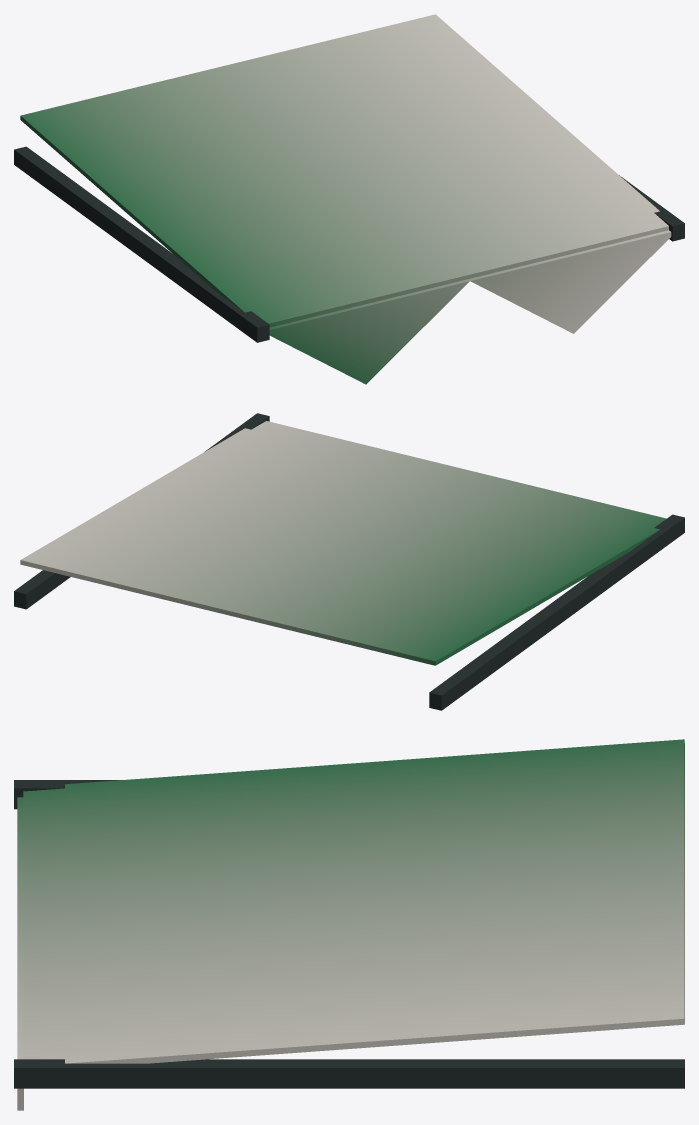
File: mai_hien_la.glb
3 views of the same model, one above another, from view 1: azimuth 30°, elevation 25°; view 2: azimuth 150°, elevation 25°; view 3: azimuth 270°, elevation 25° (orthographic). The views are drawn at different scales.
Parts seen in each view (by area): view 1: mai_hien_la; view 2: mai_hien_la; view 3: mai_hien_la.
Part boxes in pixels (x1,y1,x2,y2): mai_hien_la: (14,14,684,384); mai_hien_la: (14,413,684,710); mai_hien_la: (14,739,684,1110).
Bounding box in the file's own units: 1.03 × 0.27 × 1.01.
